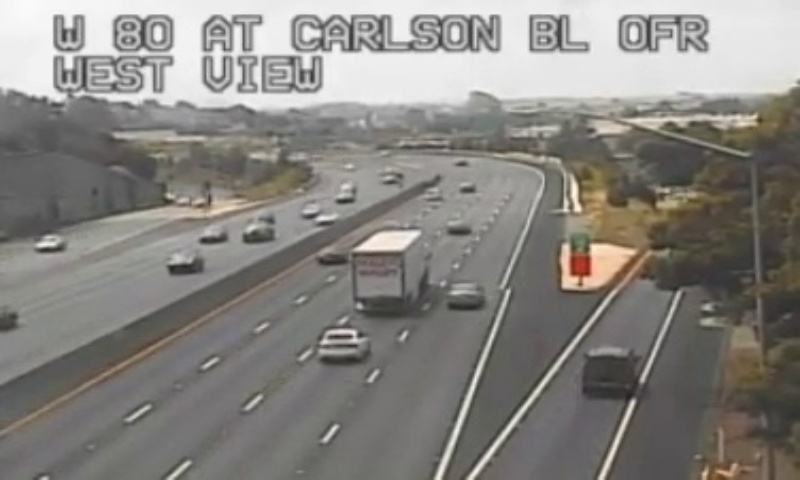car: (580, 348, 636, 393), (317, 328, 370, 360), (446, 281, 482, 304)
truck: (351, 229, 425, 312)
